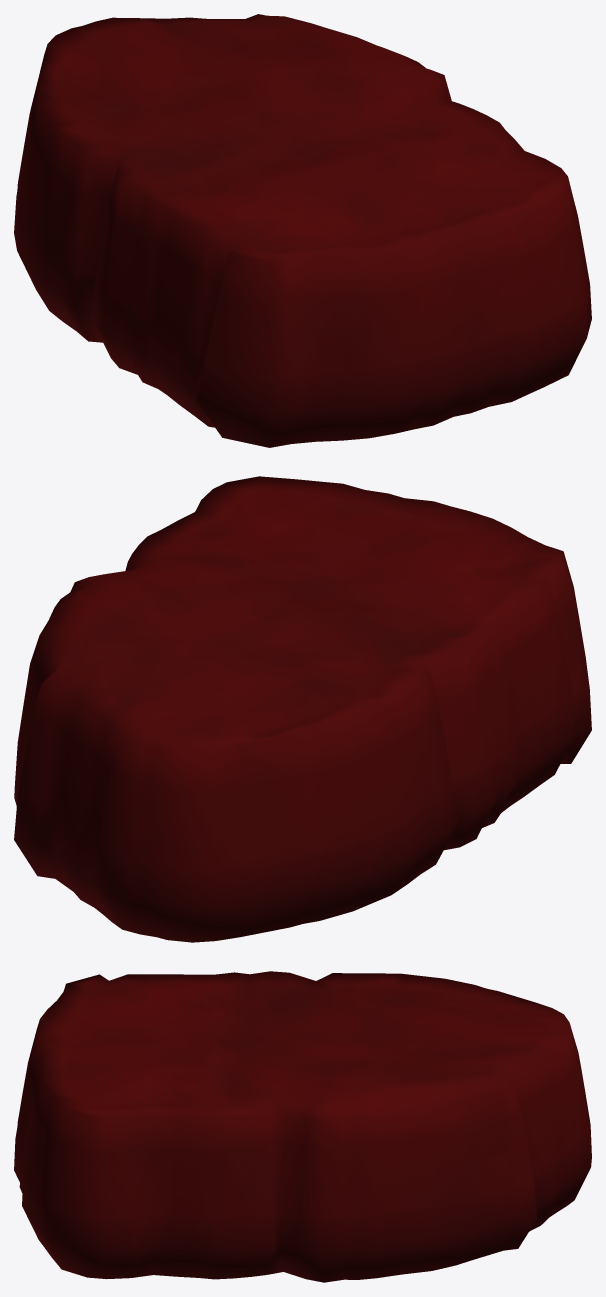
Rendered from geology-landforms-rockmesamedium_v2.fbx.
3 renders of one model, top to bottom at view 1: azimuth 30°, elevation 25°; view 2: azimuth 150°, elevation 25°; view 3: azimuth 270°, elevation 25°, orthographic. The views are drawn at different scales.
Visible parts, largest first — view 1: RockMesaMedium_v2; view 2: RockMesaMedium_v2; view 3: RockMesaMedium_v2.
Part boxes in pixels (x1,y1,x2,y2): RockMesaMedium_v2: [14, 14, 591, 447]; RockMesaMedium_v2: [14, 476, 591, 942]; RockMesaMedium_v2: [14, 971, 591, 1282].
Size of the model in its own units: 44.39 by 21.33 by 64.56.
